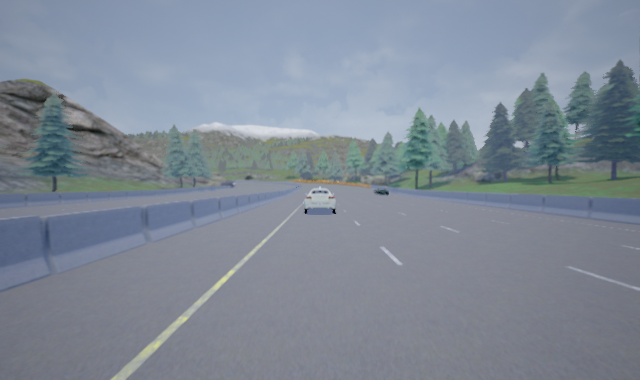vehicle: (302, 187, 337, 214), (372, 187, 388, 196)
